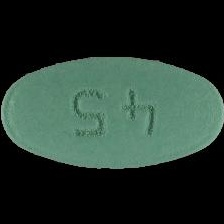65862-201: (0, 0, 224, 224)
